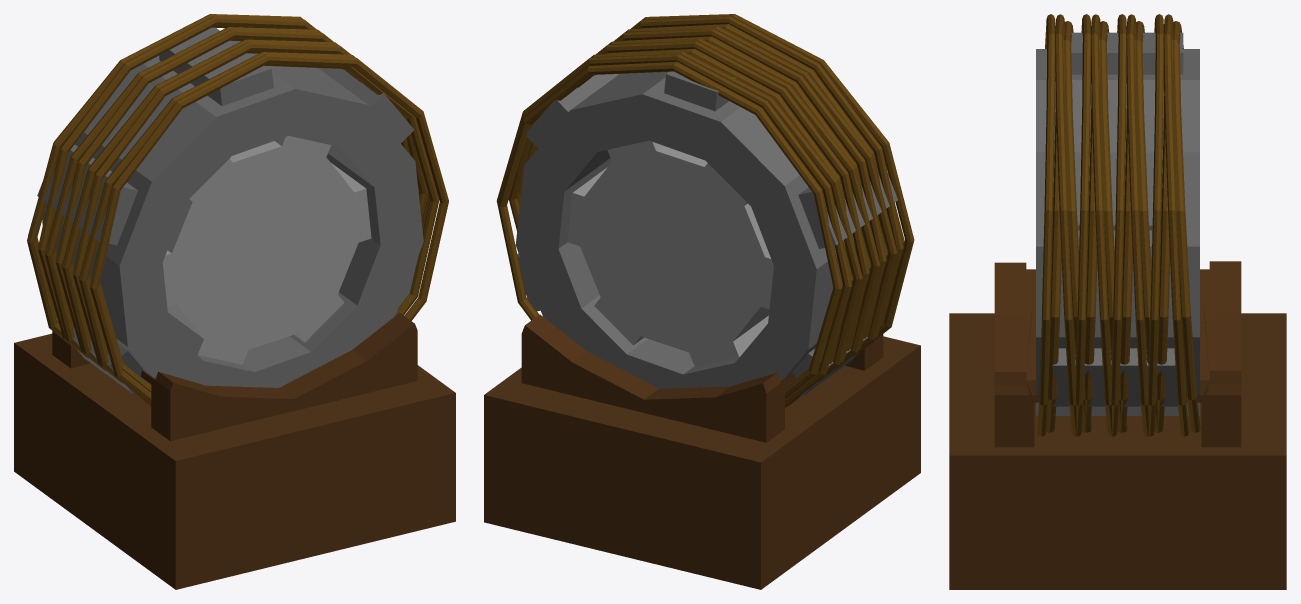
The model's file is elevator.puller.fbx.
The picture shows the model from 3 angles, left to right: view 1: azimuth 30°, elevation 25°; view 2: azimuth 150°, elevation 25°; view 3: azimuth 270°, elevation 25°; orthographic projection. The views are drawn at different scales.
Visible parts, largest first — view 1: Cube.001, Cylinder, Torus, Cylinder.001, Cube; view 2: Cube.001, Cylinder, Torus, Cylinder.001, Cube; view 3: Cube.001, Torus, Cylinder, Cube.
Part boxes in pixels (box(x1,y1,x2,y2)): Cube.001: box(14, 333, 455, 589); Cylinder: box(37, 27, 423, 394); Torus: box(27, 14, 448, 406); Cylinder.001: box(162, 136, 371, 364); Cube: box(52, 313, 417, 441); Cube.001: box(484, 336, 920, 589); Cylinder: box(515, 71, 897, 396); Torus: box(496, 14, 914, 407); Cylinder.001: box(567, 140, 773, 367); Cube: box(521, 314, 883, 442); Cube.001: box(949, 313, 1286, 589); Torus: box(1037, 14, 1200, 436); Cylinder: box(1036, 32, 1199, 415); Cube: box(994, 261, 1241, 447).
Size of the model in its own units: 351 by 435 by 274.
